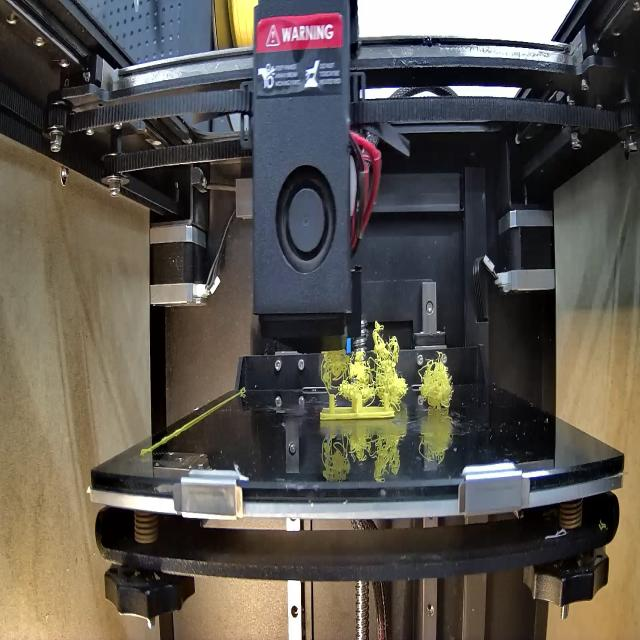spaghetti: (319, 325, 409, 405), (418, 360, 455, 412)
